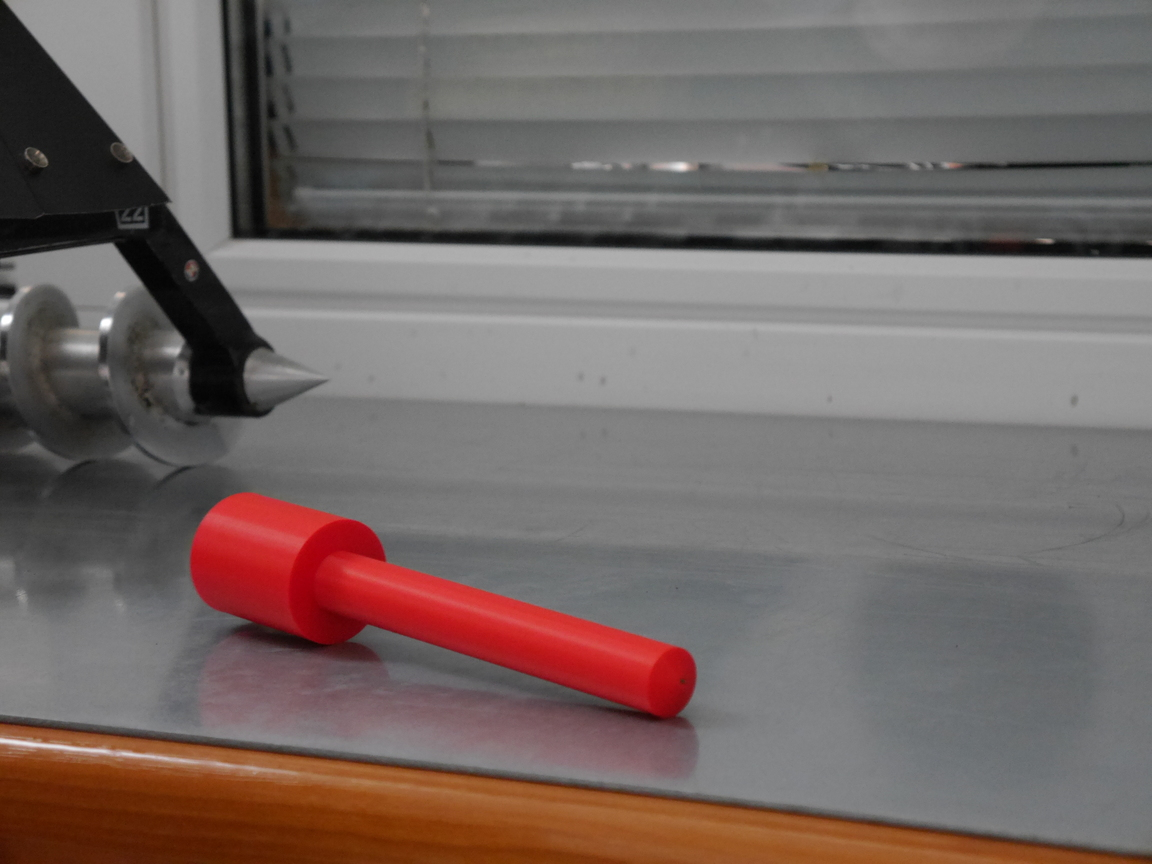cargo_g: (191, 493, 698, 722)
